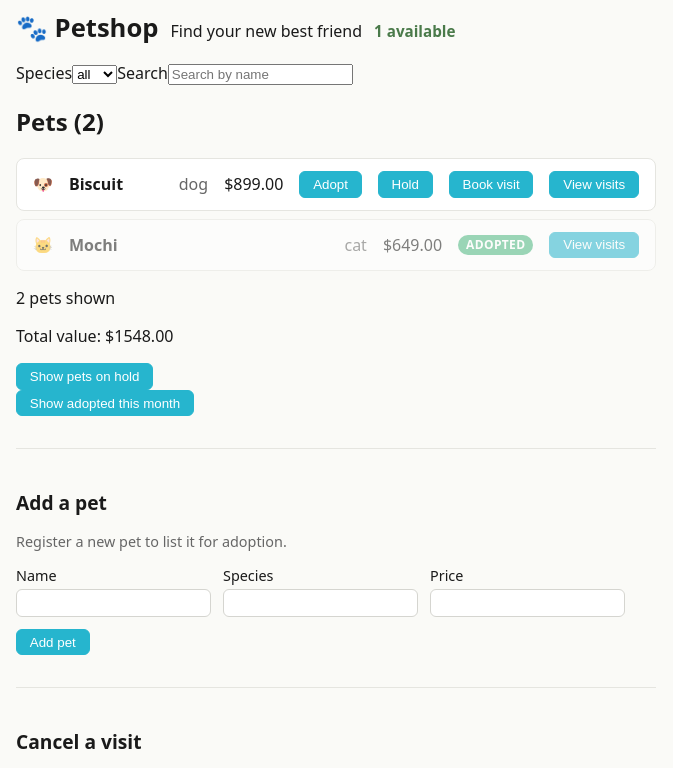
Test: App › keeps entered values and shows the error message when the slot is taken
Expected: the text "Biscuit" is shown, [69, 173, 123, 195]
Click the button "Book visit" at (491, 184), box [449, 171, 533, 198]
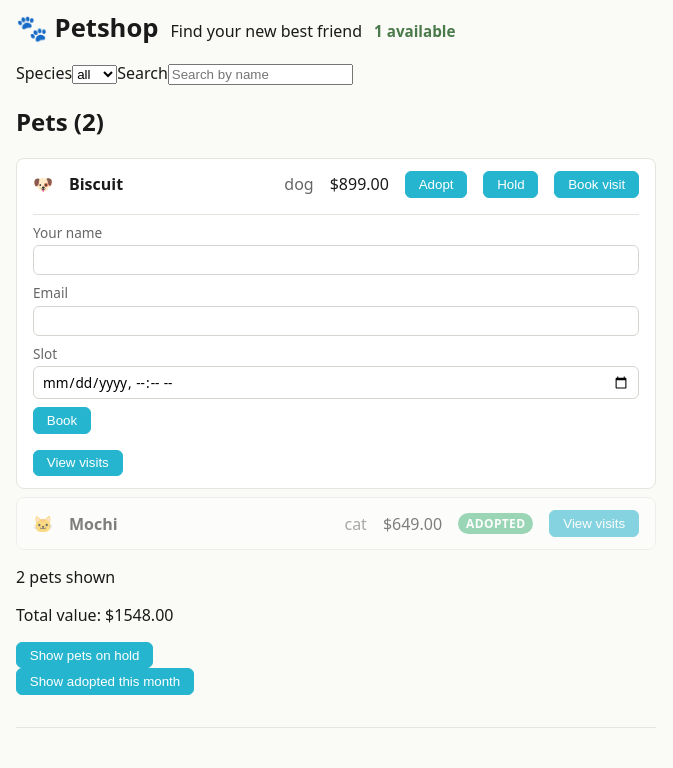
Type "Grace Hopper" into the field labelled "Your name" at (336, 260), box [33, 245, 639, 276]
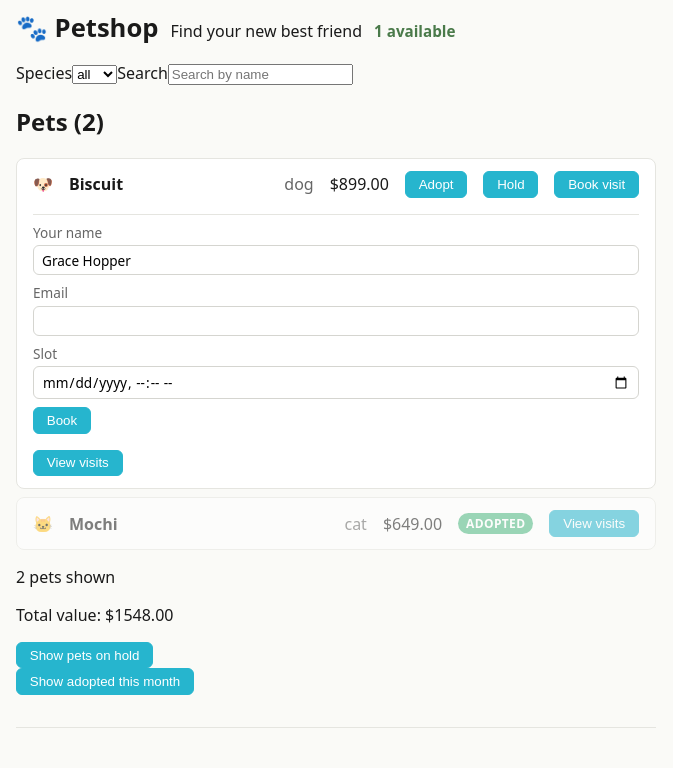
Type "grace@example.com" into the field labelled "Email" at (336, 321), box [33, 306, 639, 336]
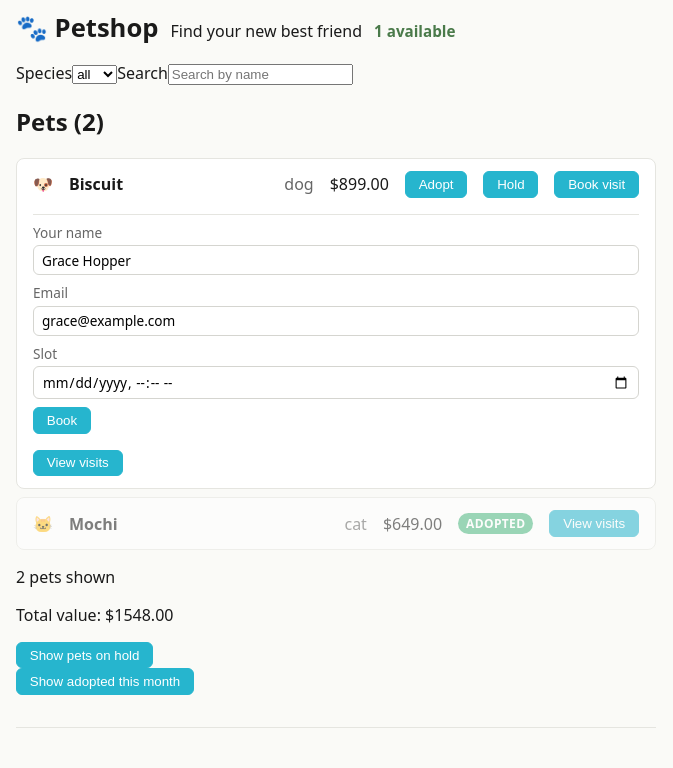
Type "2026-08-01T15:30" into the field labelled "Slot" at (336, 383), box [33, 366, 639, 399]
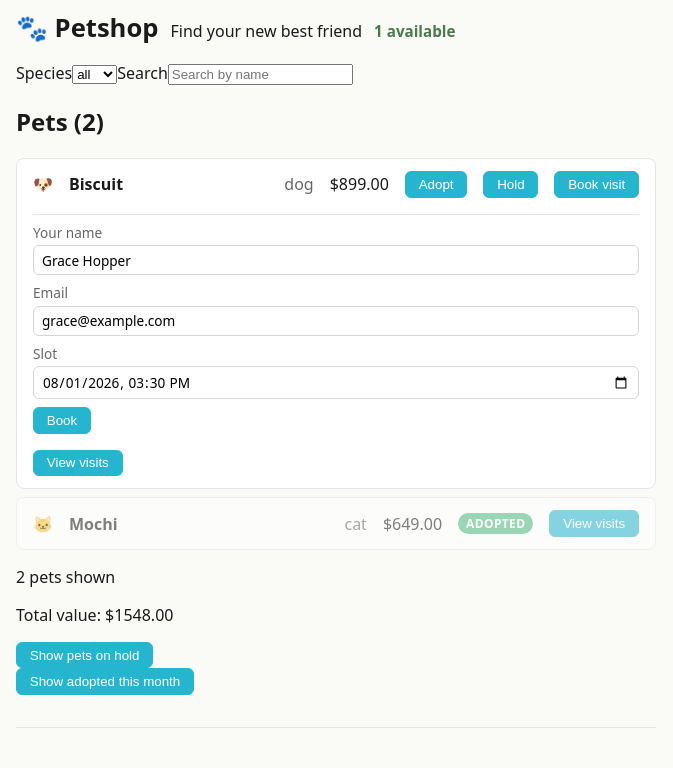
Click the button "Book" at (62, 420), box [33, 407, 91, 434]
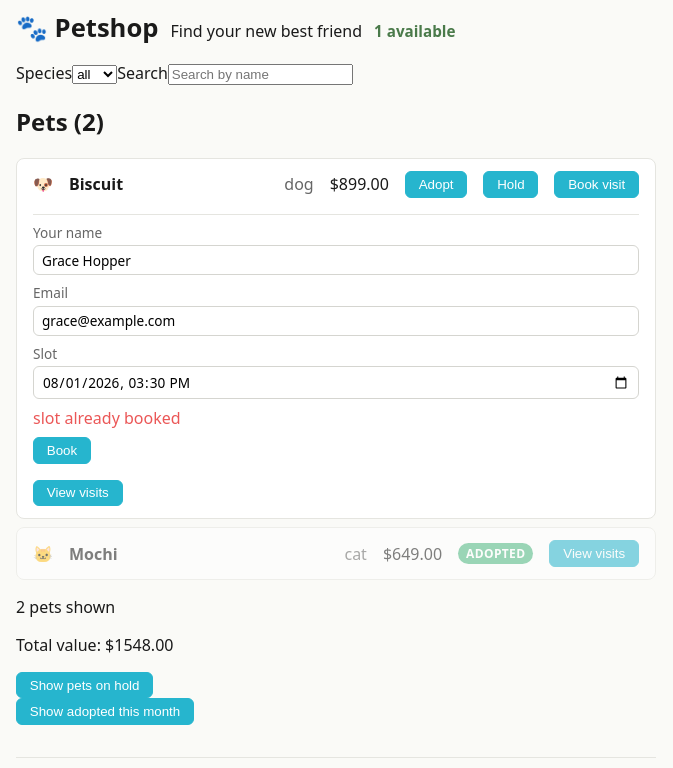
Expected: the text "slot already booked" is shown, [33, 407, 181, 429]
